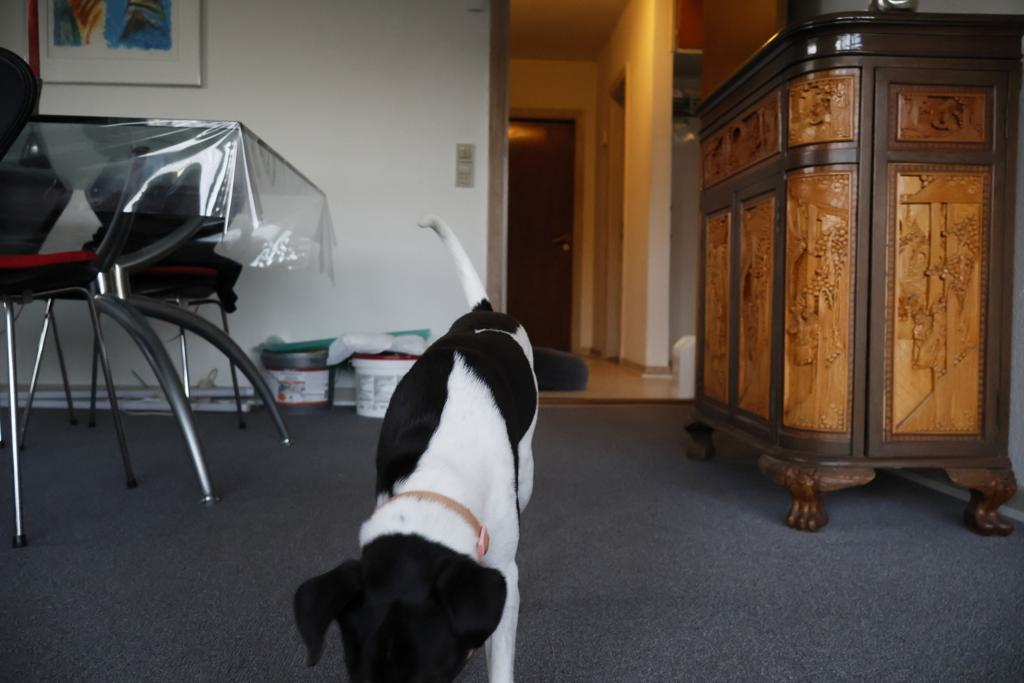Dog: (283, 207, 547, 683)
